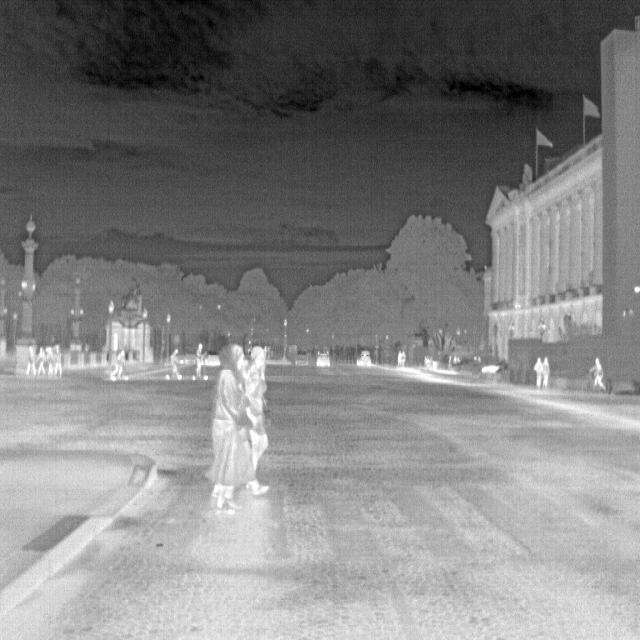Pedestrian: (205, 344, 255, 511), (244, 346, 270, 485), (589, 356, 606, 393), (192, 342, 208, 380), (165, 348, 183, 381), (111, 348, 125, 380), (52, 345, 64, 378), (25, 346, 37, 376), (35, 346, 47, 375), (533, 356, 543, 388), (542, 357, 550, 390), (45, 346, 54, 375)
